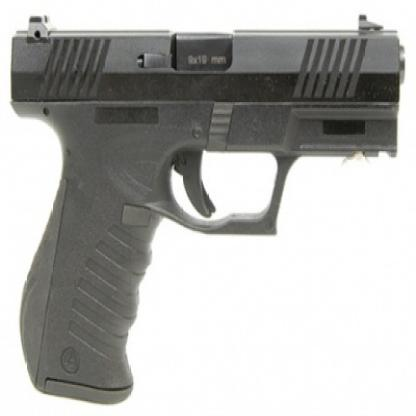Gun: (7, 9, 407, 406)
